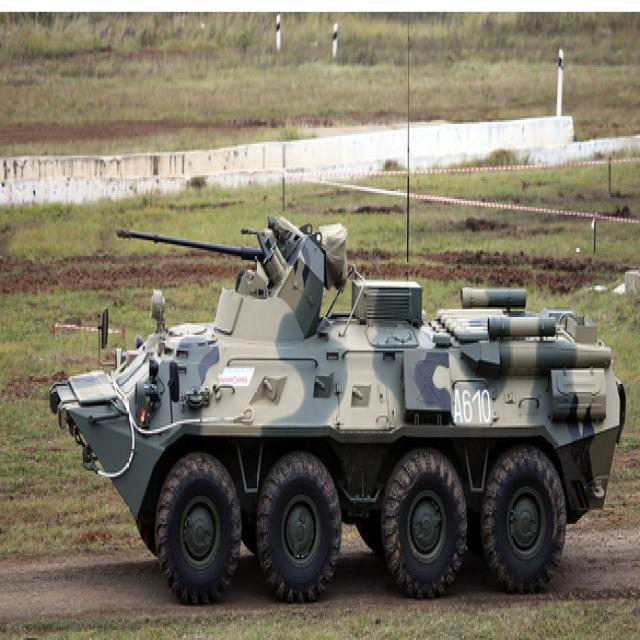MIL_APC: (43, 200, 628, 613)
